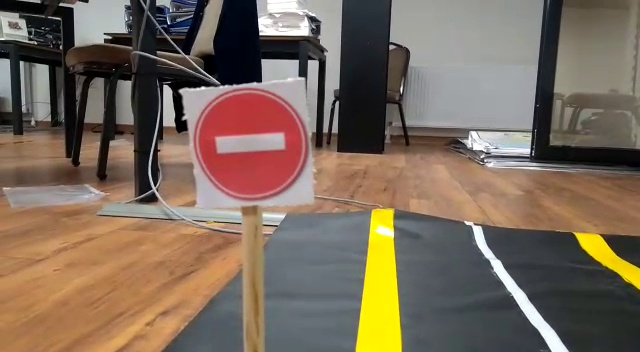girisi_olmayan_yol: (181, 92, 311, 198)
